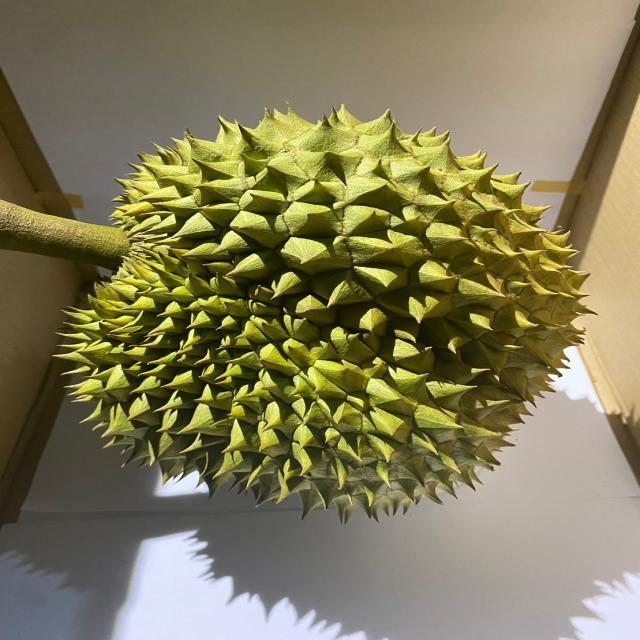immature: (50, 106, 602, 524)
